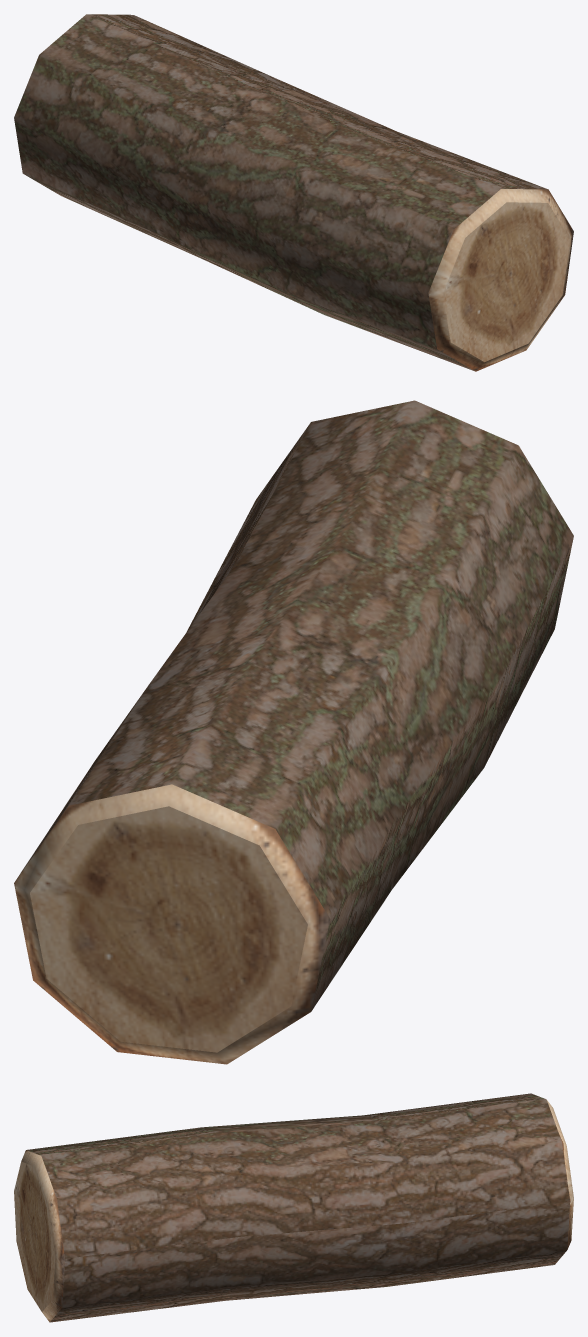
The model's file is FlatShack317.gltf.
3 renders of one model, top to bottom at view 1: azimuth 30°, elevation 25°; view 2: azimuth 150°, elevation 25°; view 3: azimuth 270°, elevation 25°, orthographic. The views are drawn at different scales.
Visible parts, largest first — view 1: prop_Log_geo_061_bark_log_01_tx_0.001; view 2: prop_Log_geo_061_bark_log_01_tx_0.001; view 3: prop_Log_geo_061_bark_log_01_tx_0.001.
Part boxes in pixels (<box>): prop_Log_geo_061_bark_log_01_tx_0.001: <box>14,14,573,371</box>; prop_Log_geo_061_bark_log_01_tx_0.001: <box>14,400,573,1064</box>; prop_Log_geo_061_bark_log_01_tx_0.001: <box>14,1093,573,1322</box>.
Size of the model in its own units: 0.2954 by 0.1631 by 0.5299.
Materials: 1 (1 with a texture image).
